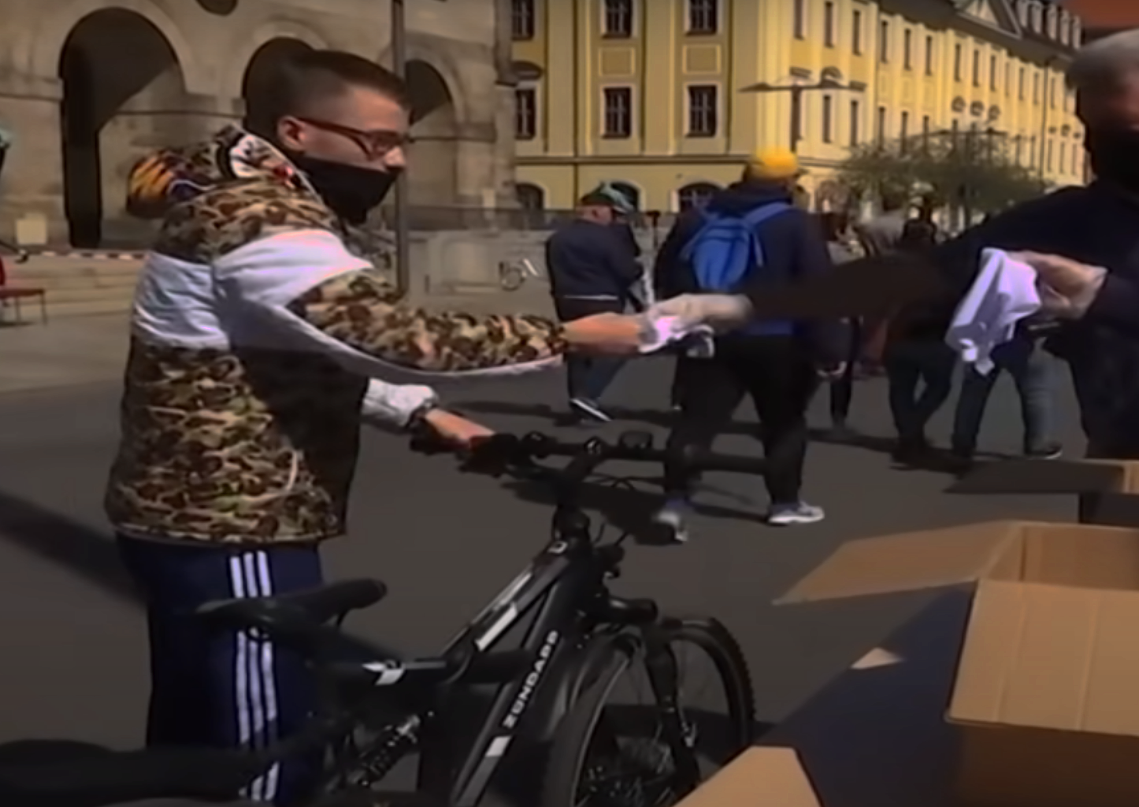mask_weared_incorrect: (247, 47, 420, 222)
